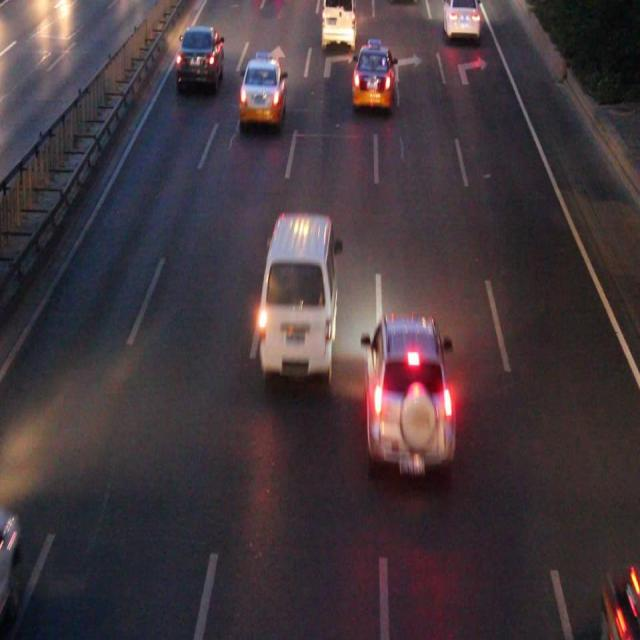car: (364, 317, 451, 466), (239, 60, 285, 121), (178, 28, 222, 86), (351, 47, 393, 105), (442, 1, 478, 36)
truck: (261, 215, 336, 375), (320, 1, 355, 46)
